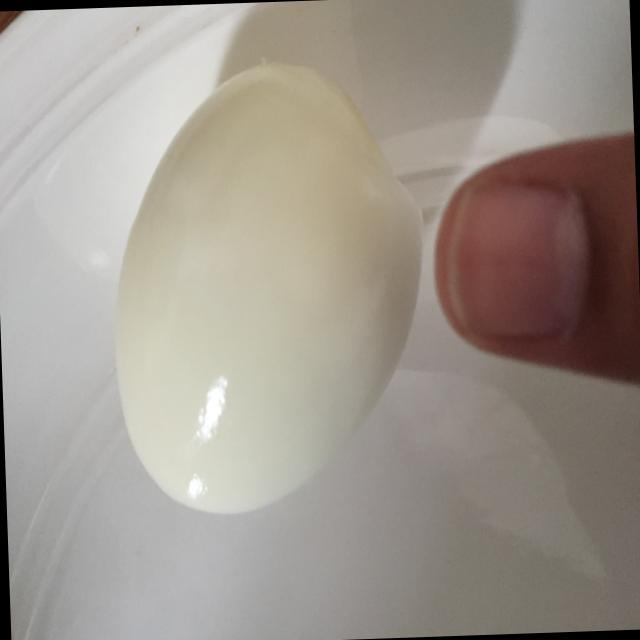Egg: (91, 42, 436, 525)
Finger: (426, 129, 640, 403)
